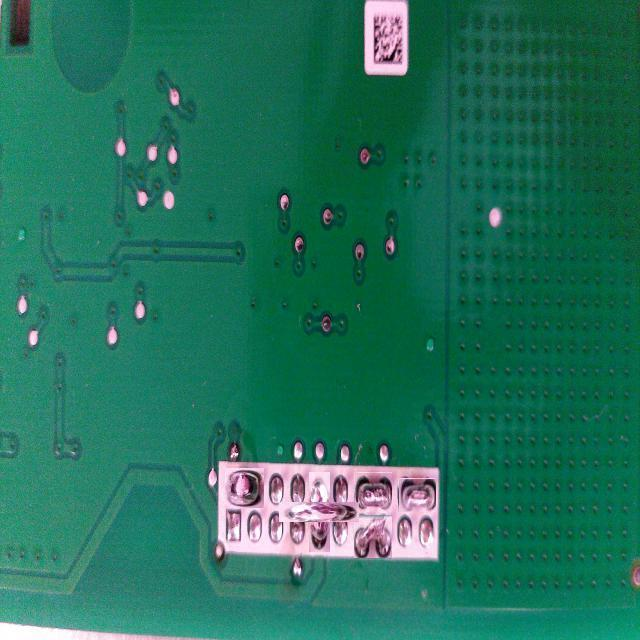Short_circuit: (294, 487, 345, 537), (354, 516, 392, 560), (224, 468, 264, 508), (354, 472, 392, 512), (398, 478, 436, 512)
